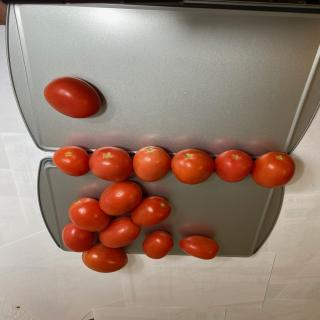Tomato: (43, 76, 101, 118), (250, 152, 296, 188), (88, 146, 134, 182), (171, 148, 214, 184), (99, 180, 142, 216), (69, 197, 110, 232), (82, 243, 128, 273), (133, 146, 171, 182), (99, 217, 141, 248), (214, 150, 253, 182), (131, 196, 171, 227), (52, 146, 90, 177), (179, 235, 219, 260), (62, 222, 94, 252), (142, 231, 174, 259)
